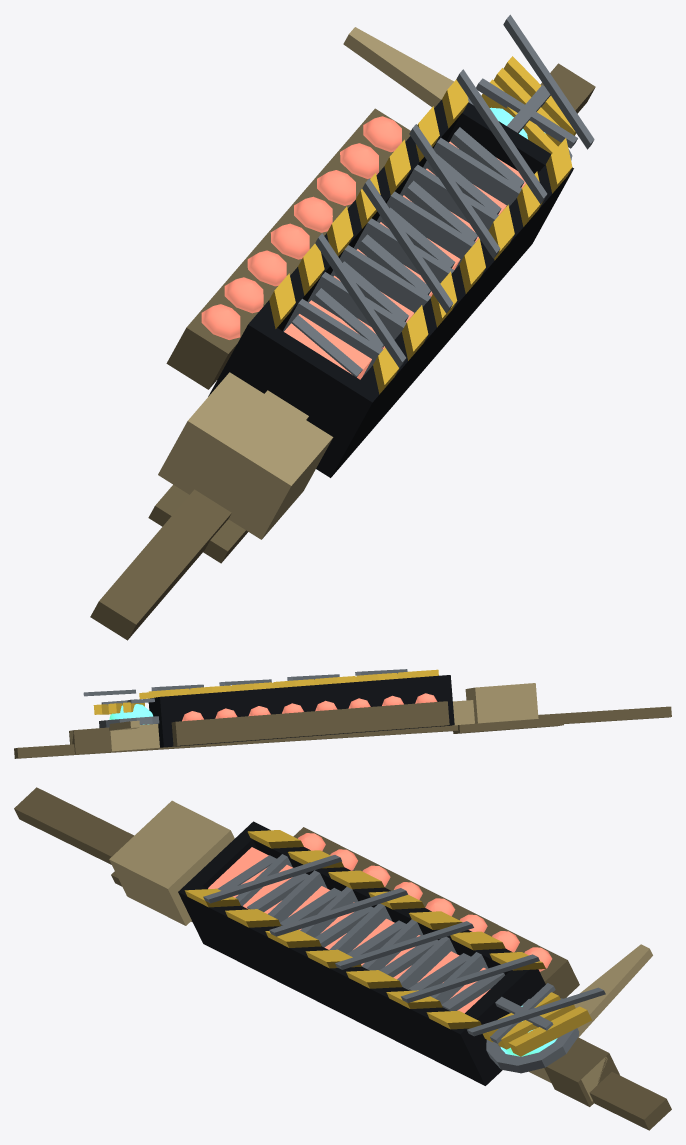
The model's file is mast.glb.
3 renders of one model, top to bottom at view 1: azimuth 30°, elevation 25°; view 2: azimuth 150°, elevation 25°; view 3: azimuth 270°, elevation 25°, orthographic. The views are drawn at different scales.
Visible parts, largest first — view 1: fmm_mast_collar, fmm_mast_bezel_l, fmm_mast_srail, fmm_mast_bezel_b, fmm_mast_lampbar, fmm_mast_vane, fmm_mast_bezel_t, fmm_mast_bezel_r, fmm_mast_grad_7, fmm_mast_grad_3, fmm_mast_grad_5, fmm_mast_scrim_1 (+25 smaller); view 2: fmm_mast_lampbar, fmm_mast_bezel_t, fmm_mast_srail, fmm_mast_collar, fmm_mast_rod, fmm_mast_foot, fmm_mast_knob, fmm_mast_bezel_r, fmm_mast_bezel_l, fmm_mast_cap, fmm_mast_capring, fmm_mast_haz_4_0 (+22 smaller); view 3: fmm_mast_bezel_b, fmm_mast_collar, fmm_mast_srail, fmm_mast_lampbar, fmm_mast_bezel_r, fmm_mast_knob, fmm_mast_bezel_t, fmm_mast_vane, fmm_mast_bezel_l, fmm_mast_capring, fmm_mast_capstripe_2, fmm_mast_scrim_3 (+35 smaller).
Boxes of the visible parts, <box> form: fmm_mast_collar: <box>158,372,333,539</box>; fmm_mast_bezel_l: <box>208,315,380,477</box>; fmm_mast_srail: <box>90,63,595,640</box>; fmm_mast_bezel_b: <box>330,165,573,477</box>; fmm_mast_lampbar: <box>166,108,410,389</box>; fmm_mast_vane: <box>343,27,468,107</box>; fmm_mast_bezel_t: <box>240,99,461,338</box>; fmm_mast_bezel_r: <box>447,102,573,236</box>; fmm_mast_grad_7: <box>423,138,521,206</box>; fmm_mast_grad_3: <box>330,245,430,313</box>; fmm_mast_grad_5: <box>377,191,475,269</box>; fmm_mast_scrim_1: <box>362,178,453,313</box>; fmm_mast_lampbar: <box>171,701,449,746</box>; fmm_mast_bezel_t: <box>160,675,449,747</box>; fmm_mast_srail: <box>14,706,671,758</box>; fmm_mast_collar: <box>465,683,538,723</box>; fmm_mast_rod: <box>69,700,474,751</box>; fmm_mast_foot: <box>453,717,563,733</box>; fmm_mast_knob: <box>69,727,111,753</box>; fmm_mast_bezel_r: <box>150,696,173,747</box>; fmm_mast_bezel_l: <box>439,675,454,726</box>; fmm_mast_cap: <box>109,704,153,724</box>; fmm_mast_capring: <box>99,716,159,728</box>; fmm_mast_haz_4_0: <box>232,682,272,691</box>; fmm_mast_bezel_b: <box>178,880,497,1085</box>; fmm_mast_collar: <box>109,800,234,925</box>; fmm_mast_srail: <box>14,787,671,1130</box>; fmm_mast_lampbar: <box>293,827,579,998</box>; fmm_mast_bezel_r: <box>449,969,545,1079</box>; fmm_mast_knob: <box>544,1037,619,1106</box>; fmm_mast_bezel_t: <box>241,822,512,974</box>; fmm_mast_vane: <box>574,944,652,1037</box>; fmm_mast_bezel_l: <box>178,821,264,949</box>; fmm_mast_capring: <box>486,998,579,1073</box>; fmm_mast_capstripe_2: <box>508,1006,591,1056</box>; fmm_mast_scrim_3: <box>401,954,539,1002</box>.
Bounding box in the file's own units: 0.1031 × 0.0171 × 0.0868.
